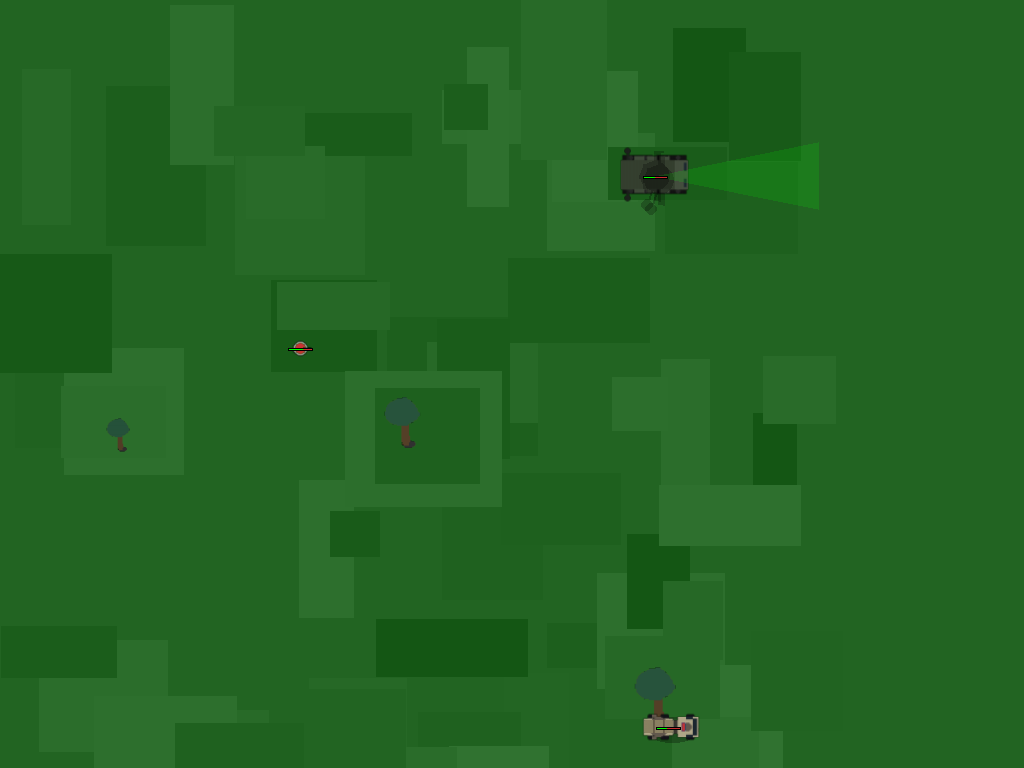HIMARS: (641, 699, 694, 752)
RadarBuilding: (615, 136, 694, 215)
Rifleman: (284, 331, 316, 363)
